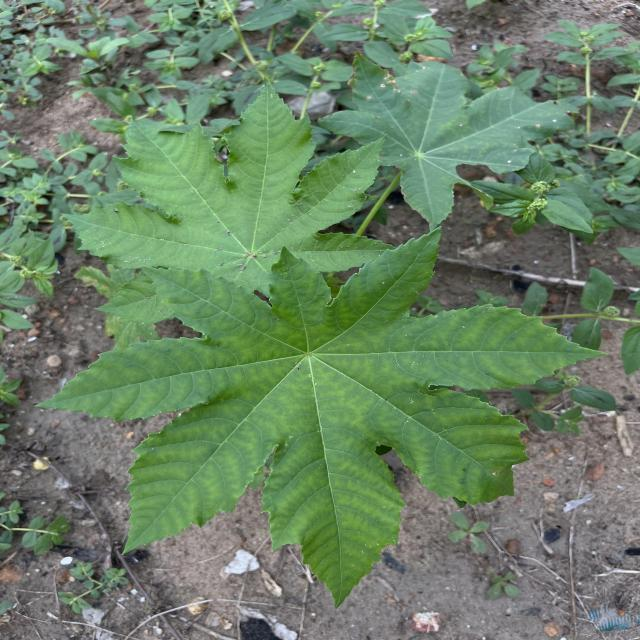Ricinus communis linn: (30, 222, 615, 614), (58, 72, 402, 328)
